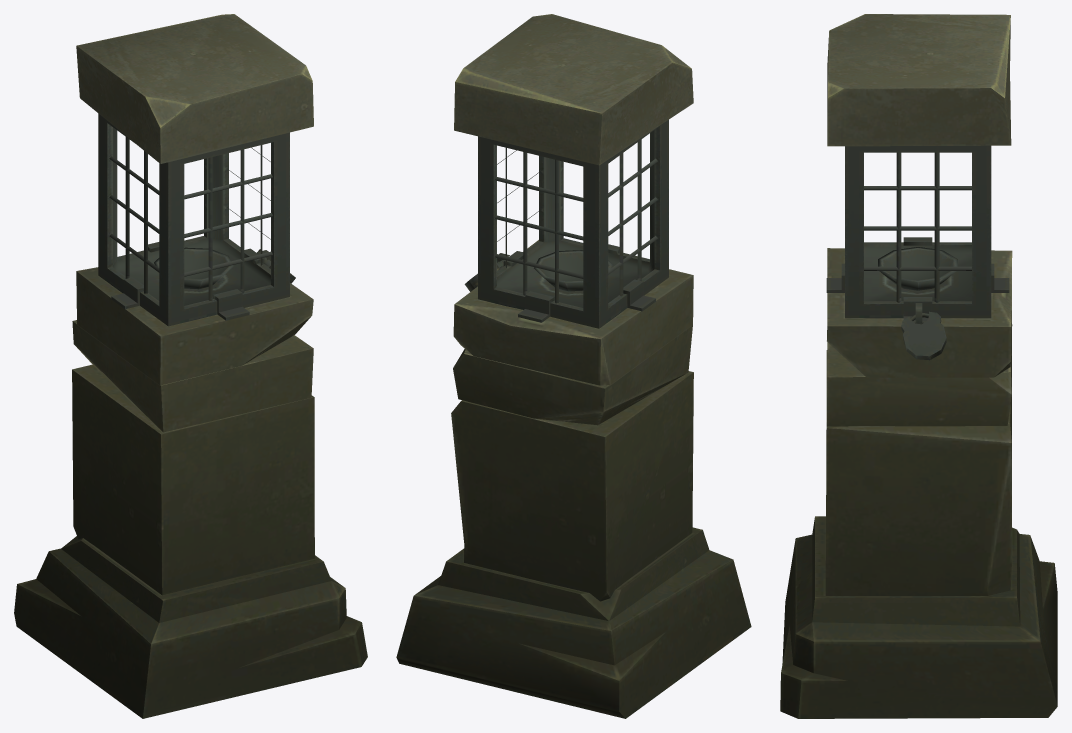
The model's file is lantern002.glb.
3 views of the same model, side by side, from view 1: azimuth 30°, elevation 25°; view 2: azimuth 150°, elevation 25°; view 3: azimuth 270°, elevation 25° (orthographic). The views are drawn at different scales.
Parts seen in each view (by area): view 1: models\props_debris\lantern002.vmdl_c.lantern002_model; view 2: models\props_debris\lantern002.vmdl_c.lantern002_model; view 3: models\props_debris\lantern002.vmdl_c.lantern002_model.
Part boxes in pixels (left/top/right/bottom): models\props_debris\lantern002.vmdl_c.lantern002_model: left=14, top=14, right=367, bottom=718; models\props_debris\lantern002.vmdl_c.lantern002_model: left=396, top=14, right=751, bottom=718; models\props_debris\lantern002.vmdl_c.lantern002_model: left=780, top=14, right=1057, bottom=718.
Size of the model in its own units: 2.22 by 5.39 by 2.22.
1 material, 1 textured.
